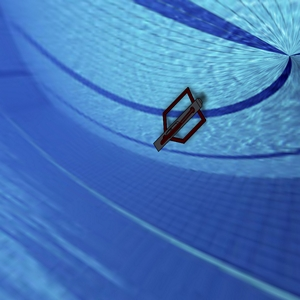submarine: (132, 74, 225, 160)
